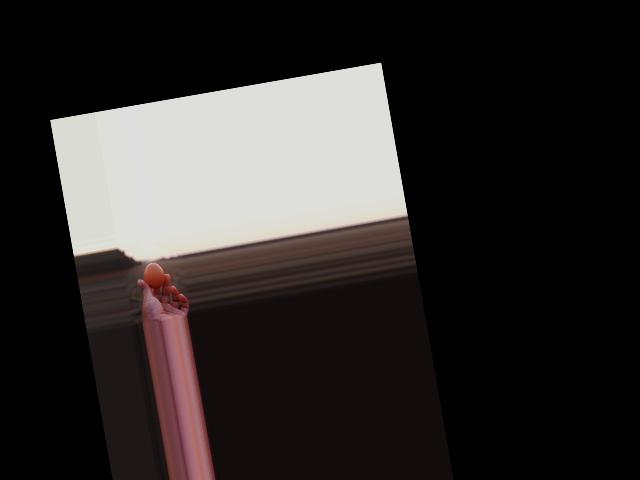egg: (142, 261, 166, 289)
